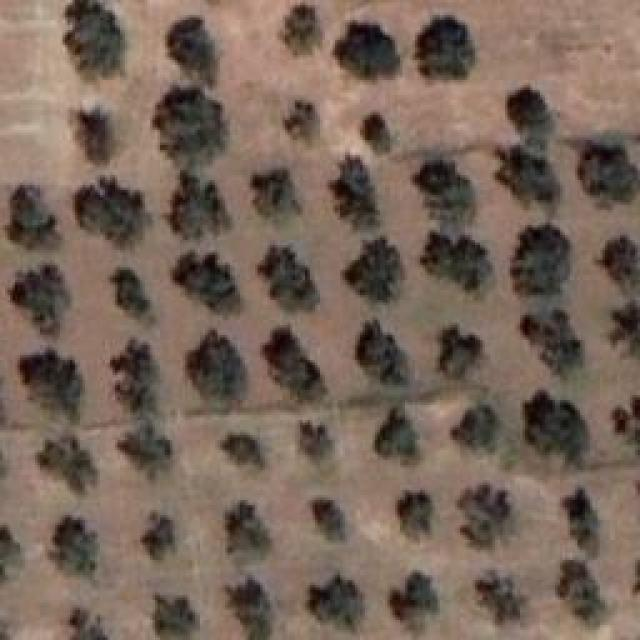Tree: (153, 85, 227, 158), (75, 178, 150, 248), (525, 390, 588, 466), (64, 0, 125, 78), (263, 328, 327, 402), (185, 330, 246, 402), (168, 170, 232, 237), (23, 348, 84, 418), (513, 225, 573, 296), (523, 310, 586, 376), (172, 252, 240, 312), (258, 245, 319, 311), (13, 265, 72, 333), (413, 163, 476, 226), (495, 145, 561, 205), (343, 238, 404, 301), (577, 142, 640, 203), (330, 154, 380, 230), (110, 335, 162, 408), (333, 23, 398, 80), (417, 18, 475, 80), (40, 435, 99, 495), (458, 485, 512, 548), (358, 320, 409, 386), (168, 20, 219, 85), (558, 560, 608, 626), (8, 185, 59, 248), (307, 575, 365, 630), (120, 415, 173, 473), (390, 573, 440, 631), (228, 578, 273, 640), (50, 518, 98, 575), (562, 487, 600, 557), (475, 570, 524, 623), (375, 408, 420, 465), (438, 325, 483, 378), (253, 168, 302, 216), (453, 235, 494, 291), (225, 500, 268, 553), (280, 5, 324, 56), (75, 108, 113, 165), (152, 595, 200, 640), (453, 405, 497, 451), (508, 88, 552, 134), (600, 235, 639, 285), (110, 268, 151, 314), (398, 492, 433, 542), (610, 303, 640, 358), (143, 513, 176, 560), (422, 232, 454, 279), (285, 100, 320, 142), (220, 435, 263, 468), (300, 423, 334, 461), (360, 113, 391, 154), (315, 500, 345, 542), (3, 525, 23, 582), (70, 610, 108, 640), (615, 408, 631, 434)
